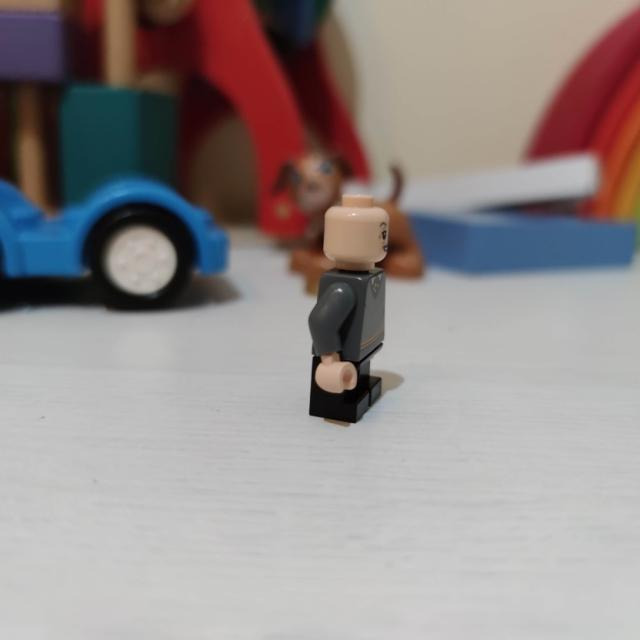lego: (306, 190, 390, 422)
